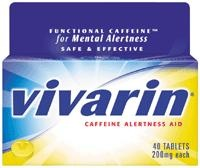grozi_89: (1, 0, 200, 168)
